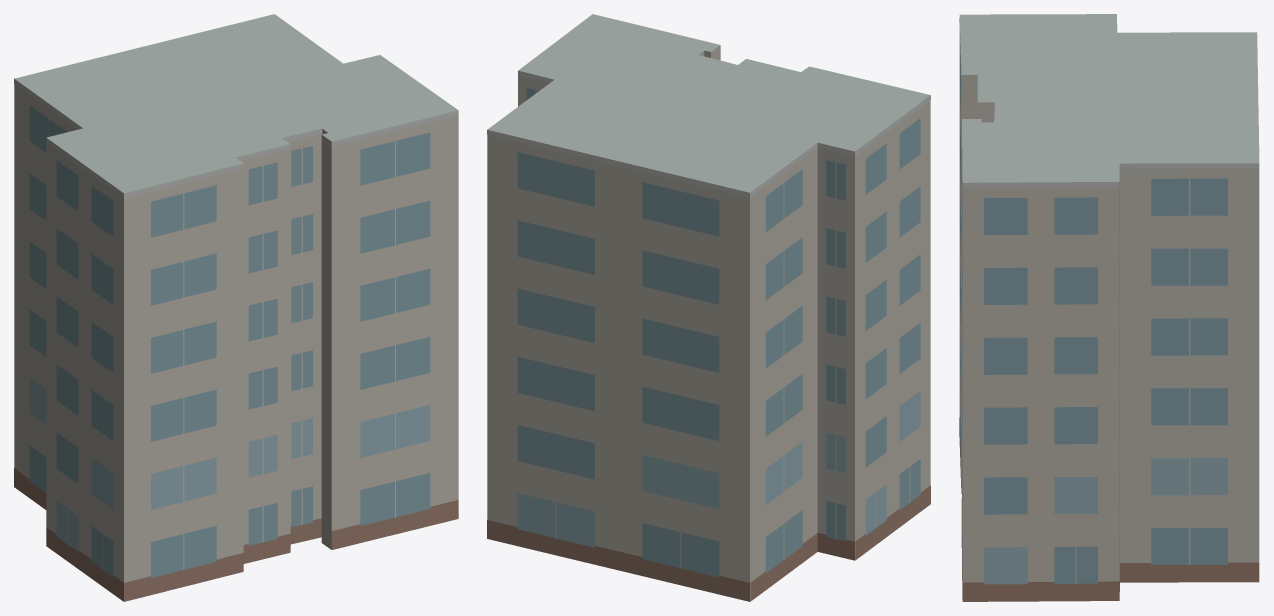
File: survey-upis-32999979.glb
The picture shows the model from 3 angles, left to right: view 1: azimuth 30°, elevation 25°; view 2: azimuth 150°, elevation 25°; view 3: azimuth 270°, elevation 25°; orthographic projection. The views are drawn at different scales.
Parts seen in each view (by area): view 1: survey-upis-32999979.tmp; view 2: survey-upis-32999979.tmp; view 3: survey-upis-32999979.tmp.
Boxes of the visible parts, bbox=[...] form: survey-upis-32999979.tmp: bbox=[14, 14, 458, 601]; survey-upis-32999979.tmp: bbox=[487, 14, 930, 601]; survey-upis-32999979.tmp: bbox=[959, 14, 1259, 601].
Size of the model in its own units: 17.2 by 19.9 by 12.92.
